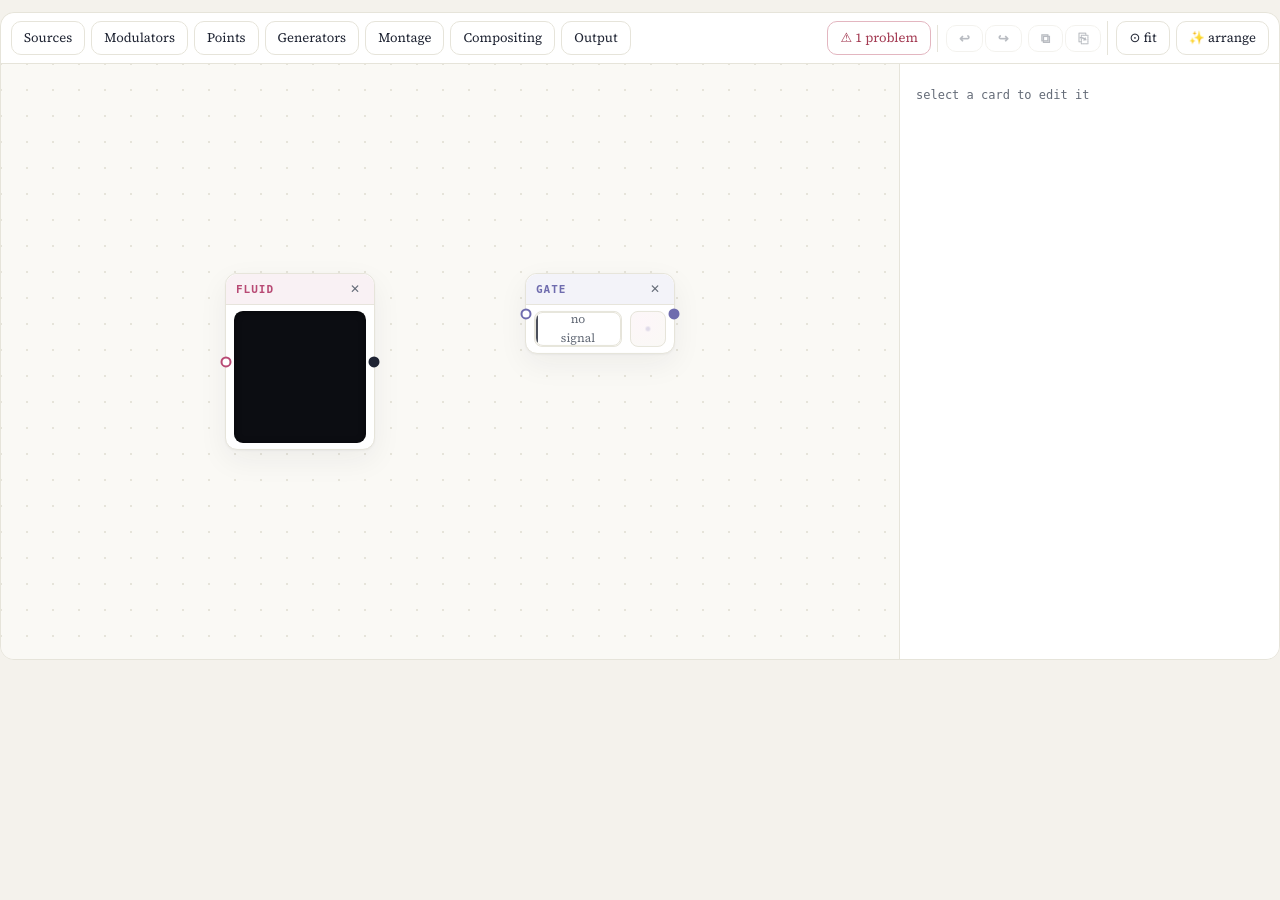
it: the docked inspector › with several cards selected it names the count instead of guessing one
The width and height of the screenshot is (1280, 900).
Press the mouse on the element showing "fluid ✕" at x=300, y=290, box [226, 274, 374, 305]
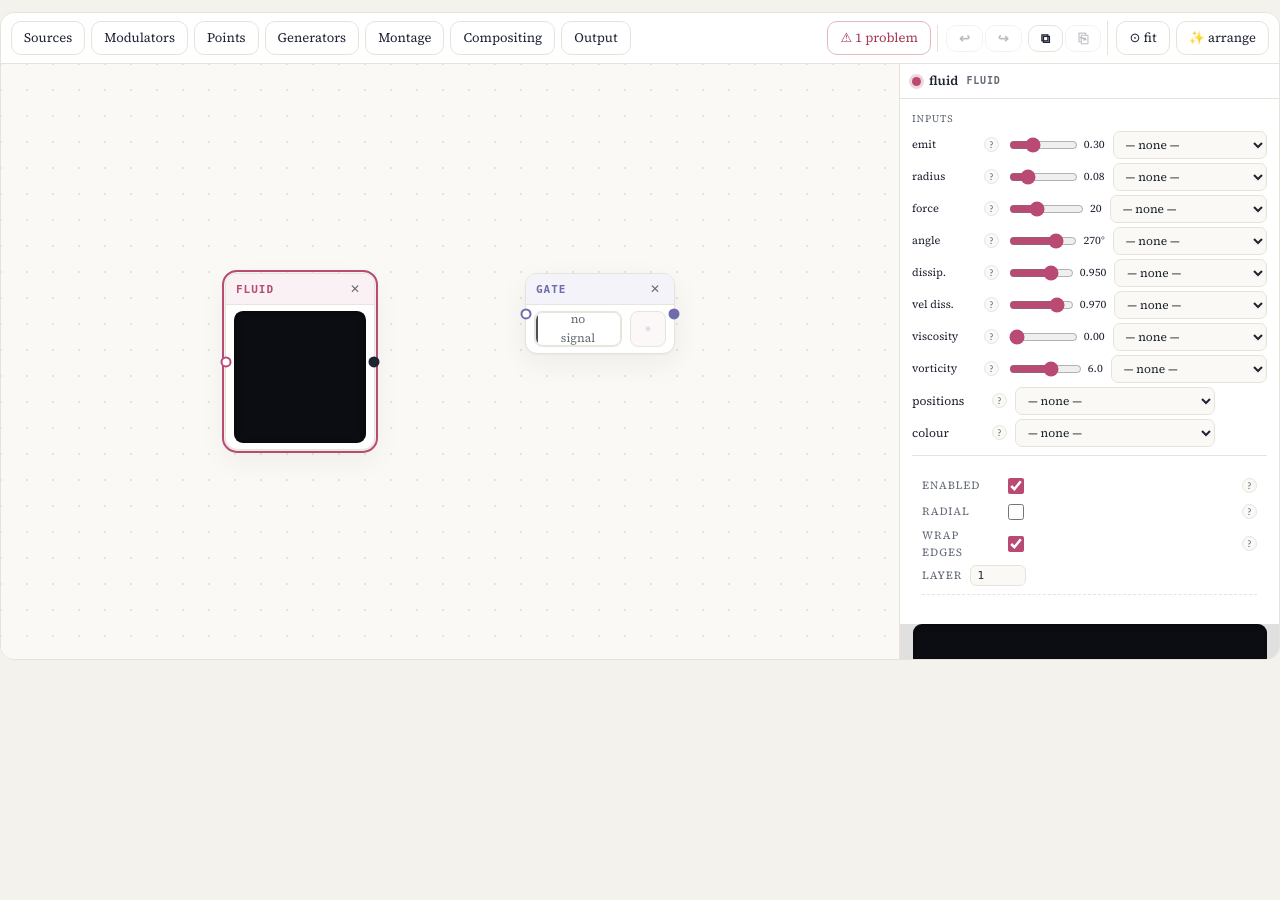
Press the mouse on the element showing "gate ✕" at x=600, y=290, box [526, 274, 674, 305]
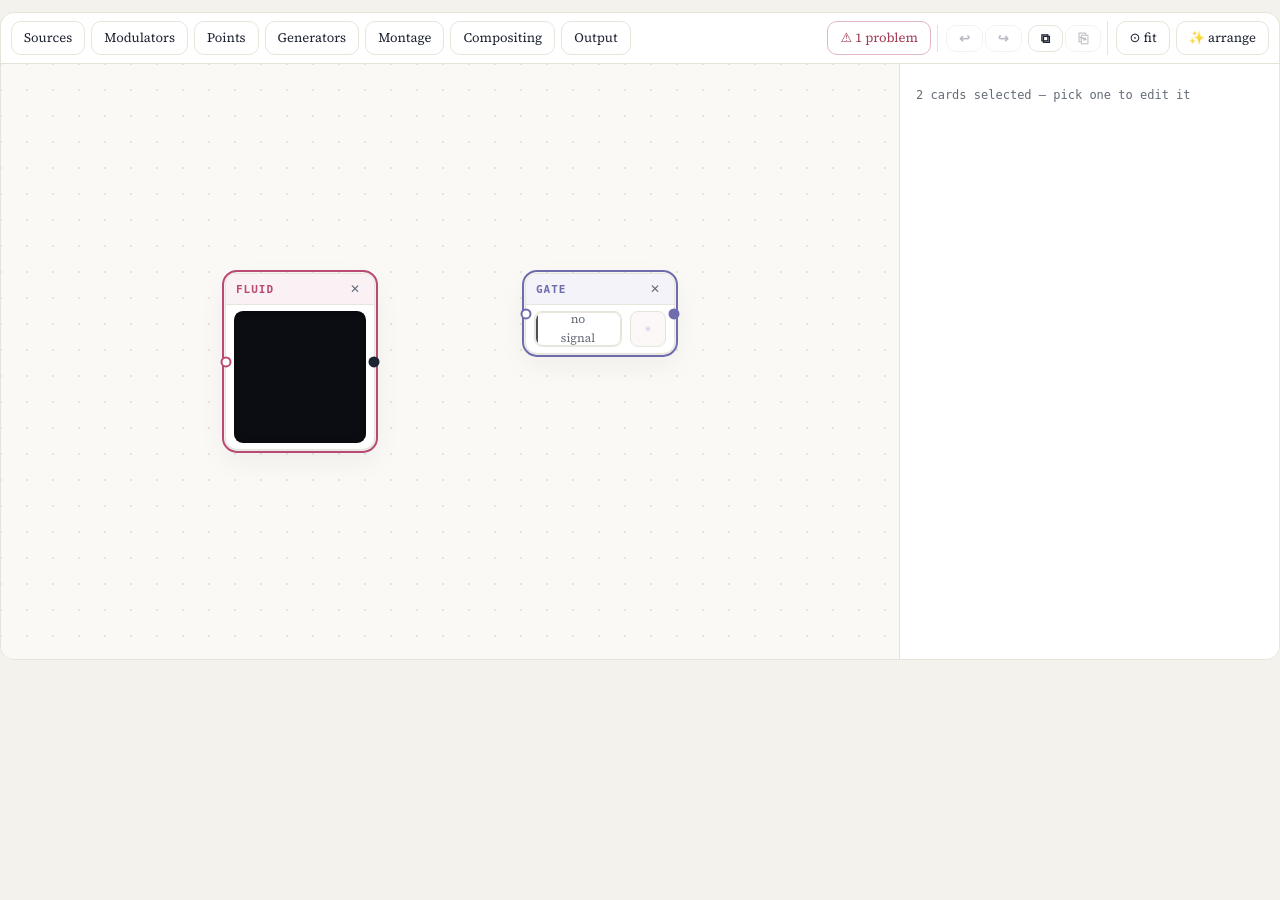
Now the element with class "anim-dock" shows "2 cards selected", box [916, 88, 1190, 102]
